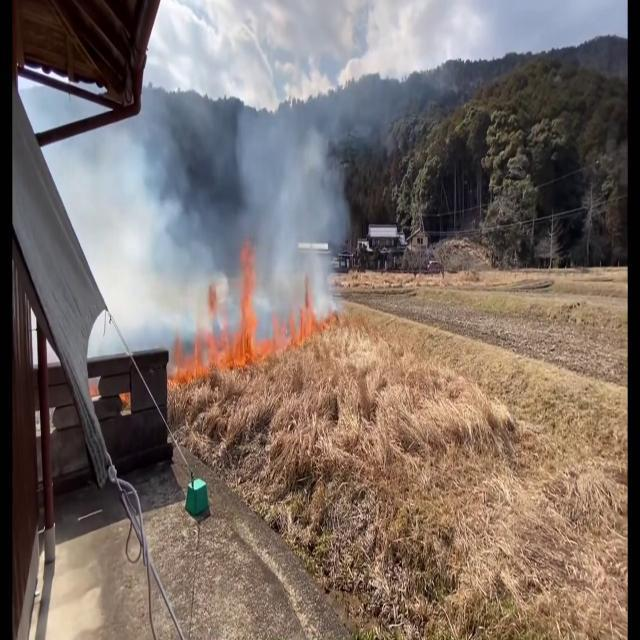Fire: (171, 288, 248, 384), (285, 271, 338, 358)
Smoke: (154, 52, 361, 360)
